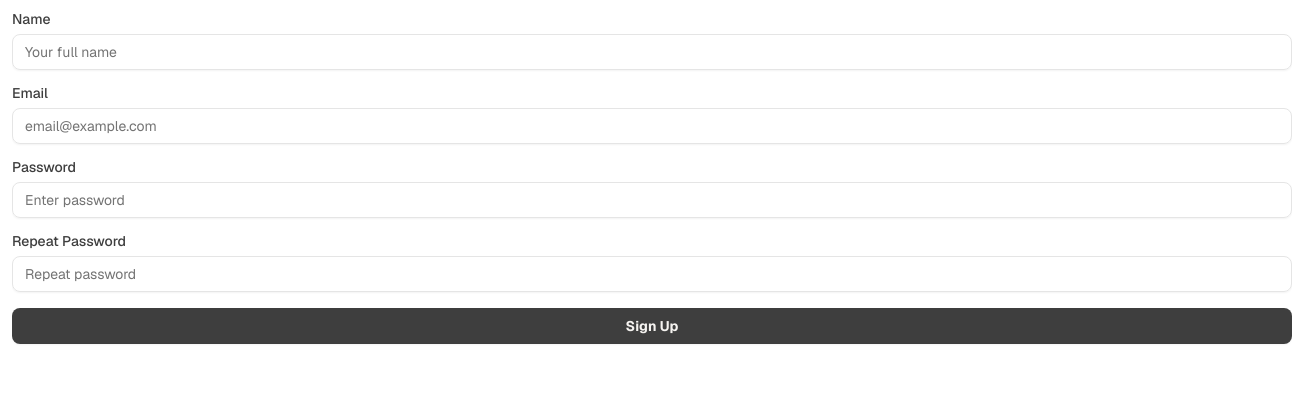
Test: SignupForm › should display firebase error message if signup fails
Type "John Doe" into the field labelled "Name" at [652, 52], box [12, 34, 1292, 70]
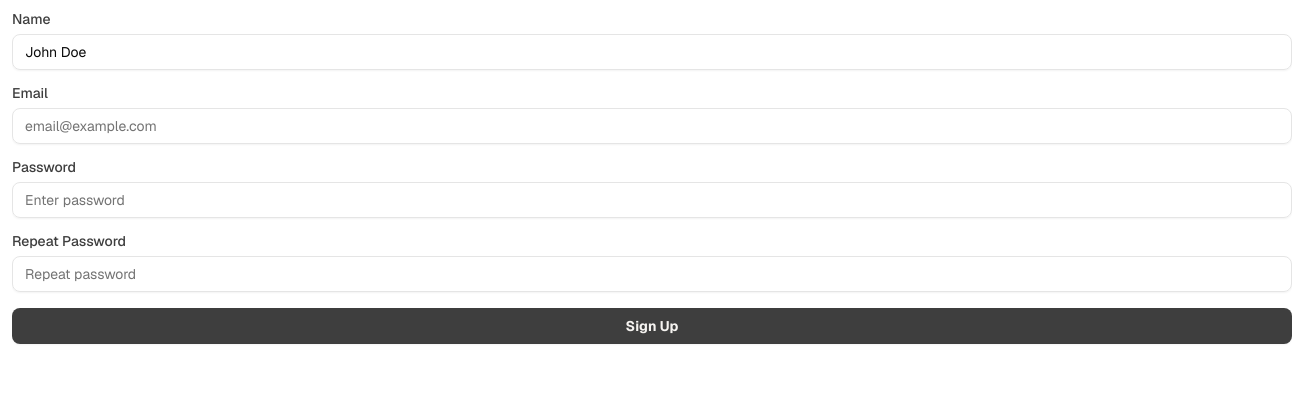
Type "john@example.com" into the field labelled "Email" at [652, 126], box [12, 108, 1292, 144]
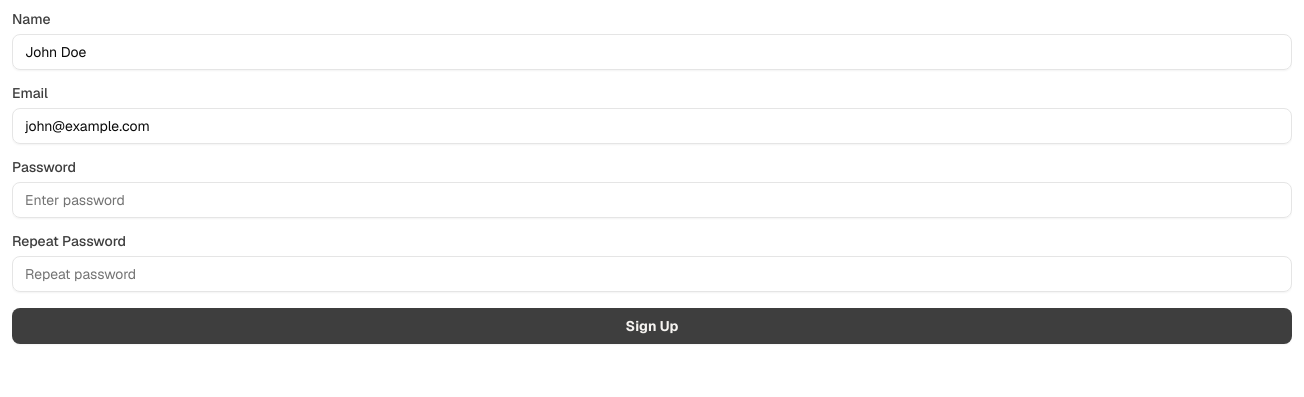
Type "password123" into the password field labelled "Password" at [652, 200], box [12, 182, 1292, 218]
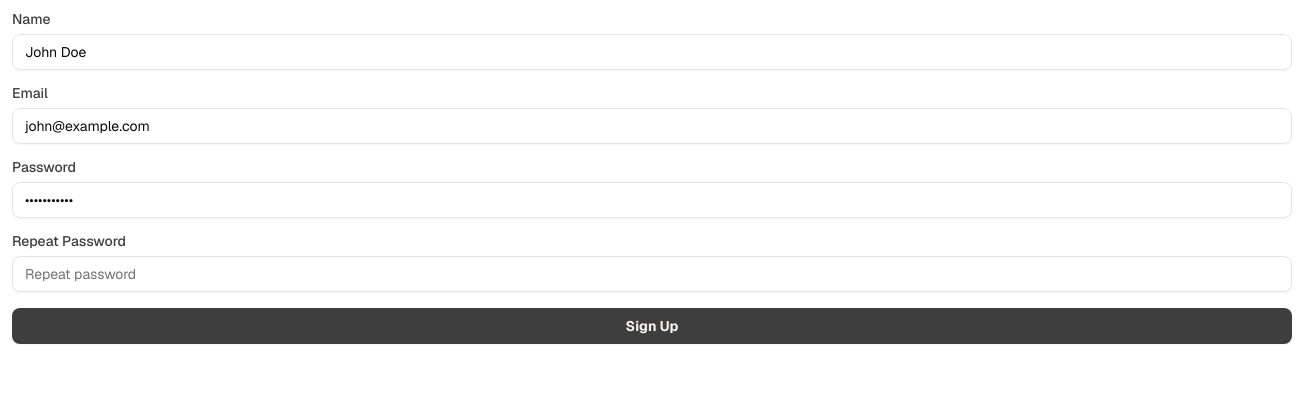
Type "password123" into the password field labelled "Repeat Password" at [652, 274], box [12, 256, 1292, 292]
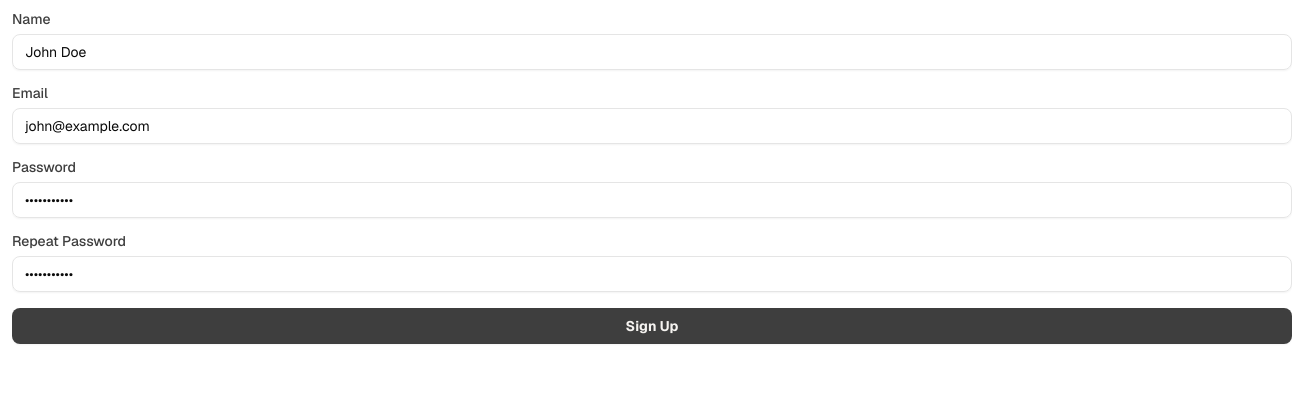
Click the button "Sign Up" at [652, 326], box [12, 308, 1292, 344]
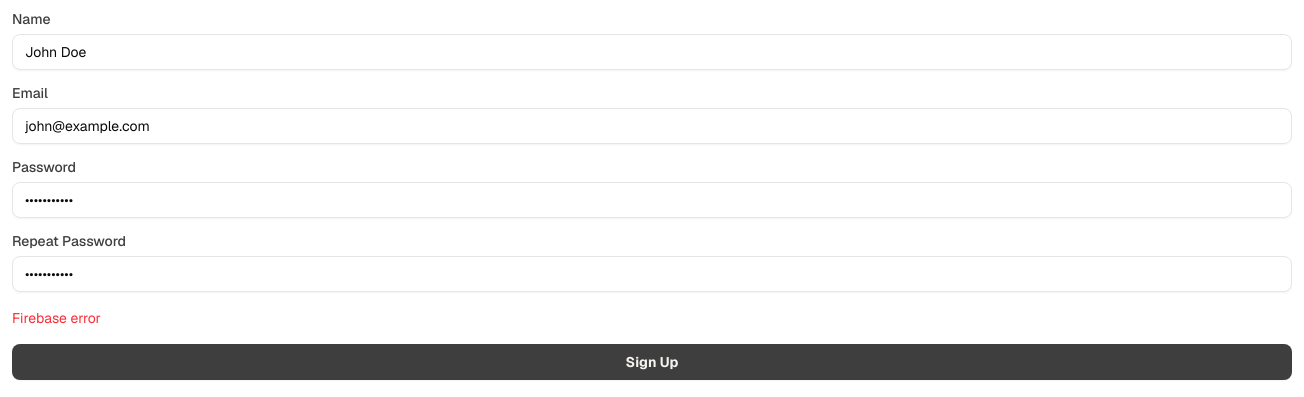
Now the text "Firebase error" is shown, box [12, 309, 101, 327]
